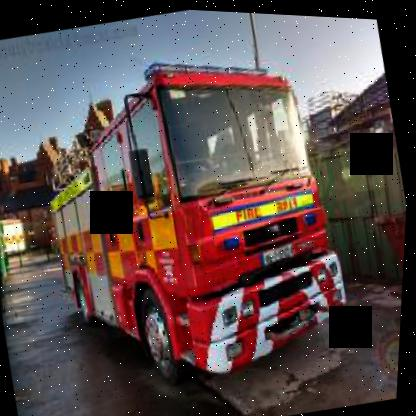emergency: (4, 26, 386, 415)
